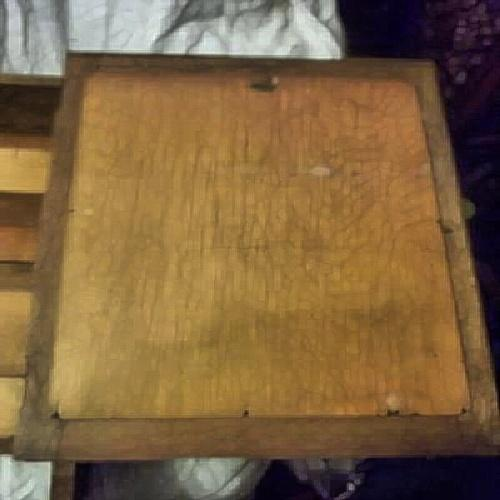cabinet: (48, 68, 459, 426)
